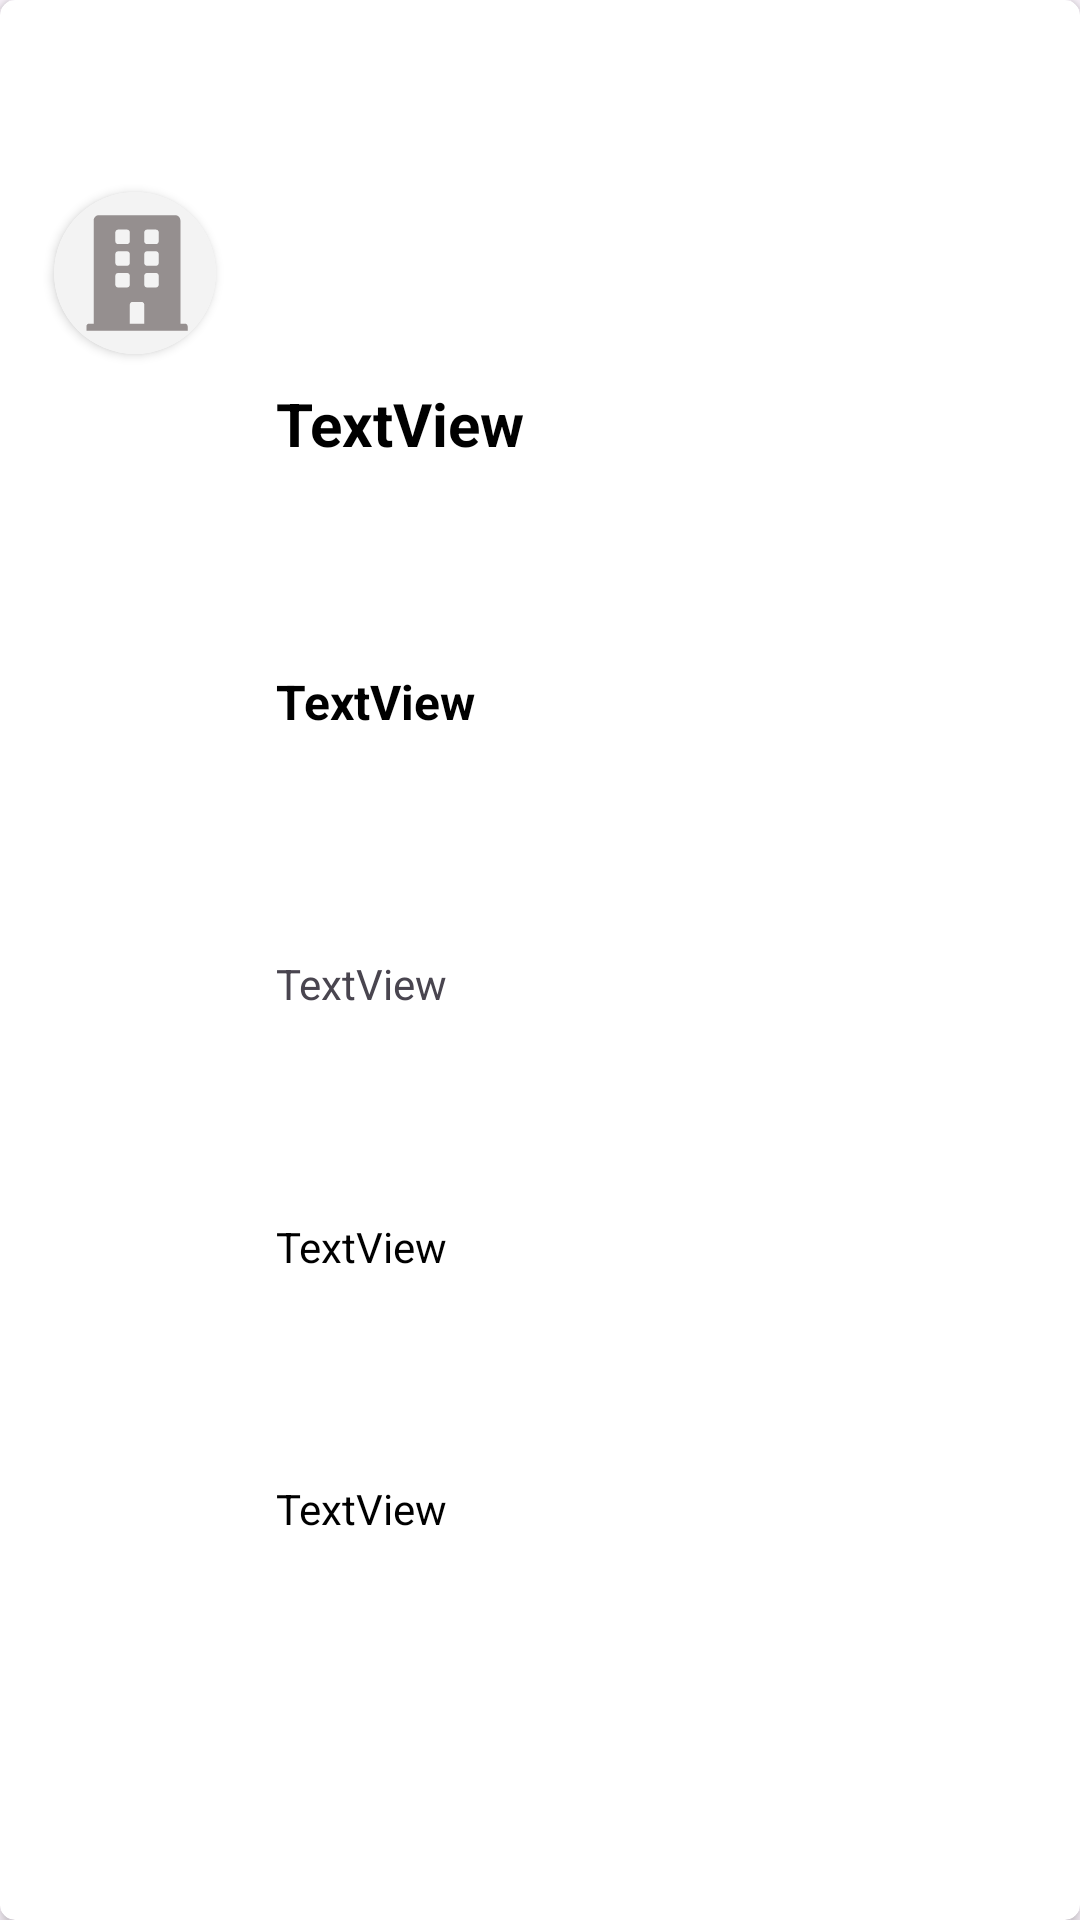

Named icons in this screenshot (1080x1920) and their bounding boxes, (left=x1, top=y1, right=x2, bottom=y2):
building: (left=54, top=192, right=216, bottom=354)
